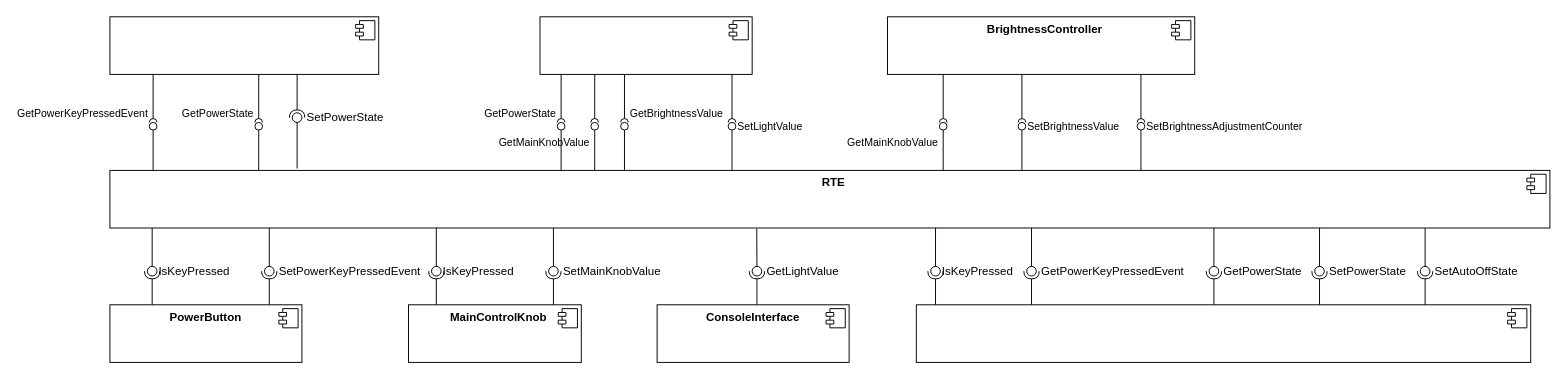
The diagram is 1567 pixels wide and 379 high, and some of its shapes have lost their labels. The shapes that lost their labels are listed below. From the top down, each one's centre as x and y in pixels, then its label:
At pixel 244 45: "PowerSignalProcessing".
At pixel 645 45: "LightController".
At pixel 1223 333: "AutoOff".
